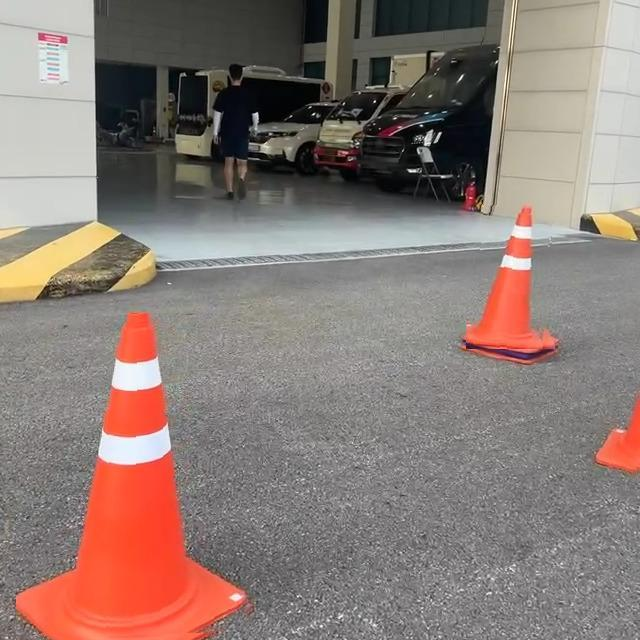fallen_object: (0, 259, 237, 640), (415, 186, 570, 416)
